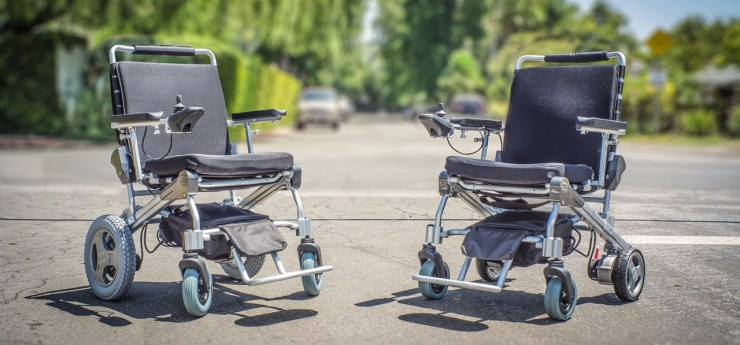wheelchair: (79, 43, 325, 318), (410, 41, 651, 317)
